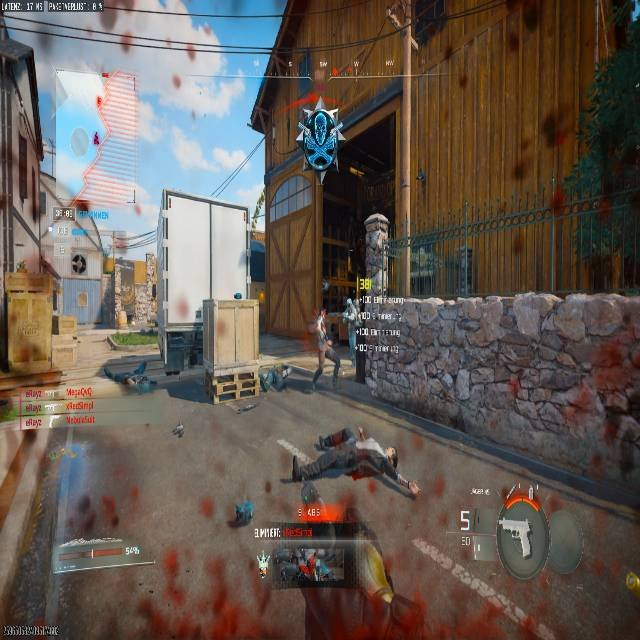player: (313, 292, 366, 387), (310, 308, 343, 389)
